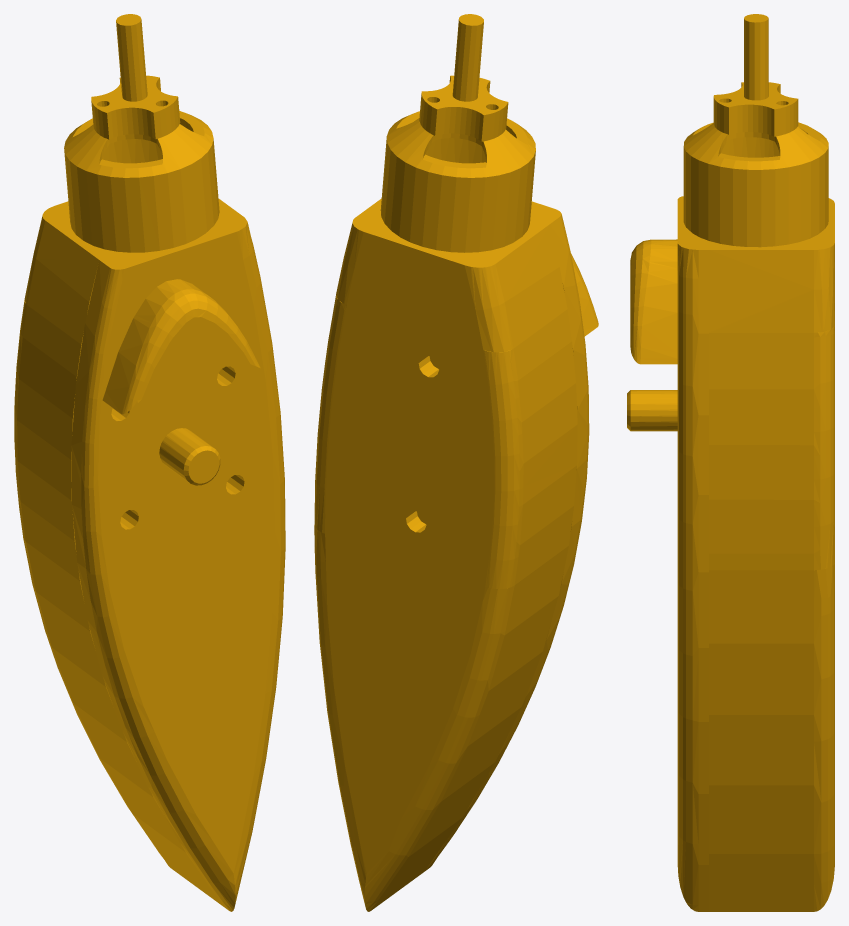
File: RotorL_yellow.dae
The picture shows the model from 3 angles, left to right: view 1: azimuth 30°, elevation 25°; view 2: azimuth 150°, elevation 25°; view 3: azimuth 270°, elevation 25°; orthographic projection. The views are drawn at different scales.
Parts seen in each view (by area): view 1: Rotor_L; view 2: Rotor_L; view 3: Rotor_L.
Boxes of the visible parts, box(x1,y1,x2,y2) form: Rotor_L: box(14, 14, 285, 911); Rotor_L: box(314, 14, 598, 911); Rotor_L: box(627, 14, 834, 911).
Size of the model in its own units: 0.0557 by 0.0501 by 0.2288.
